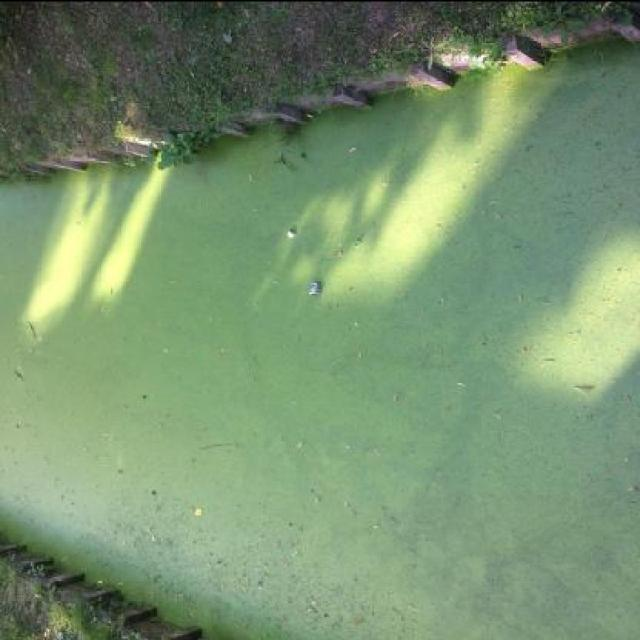metal: (308, 278, 321, 294)
